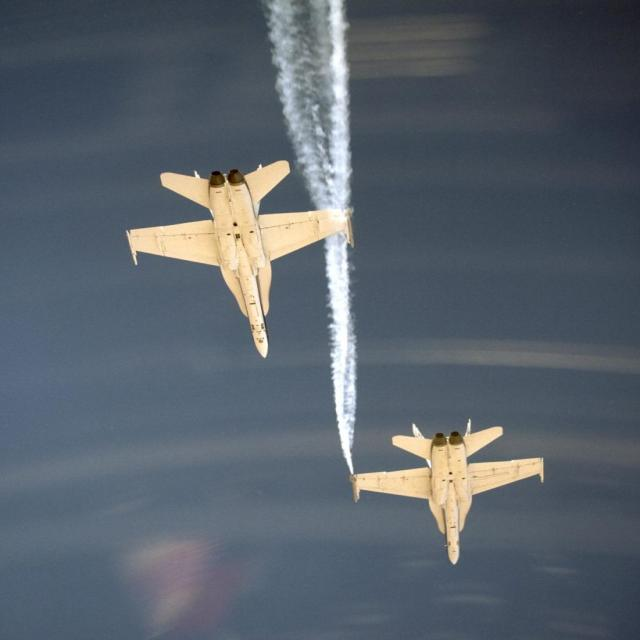MIL_Plane: (126, 160, 354, 359), (348, 418, 544, 565)
